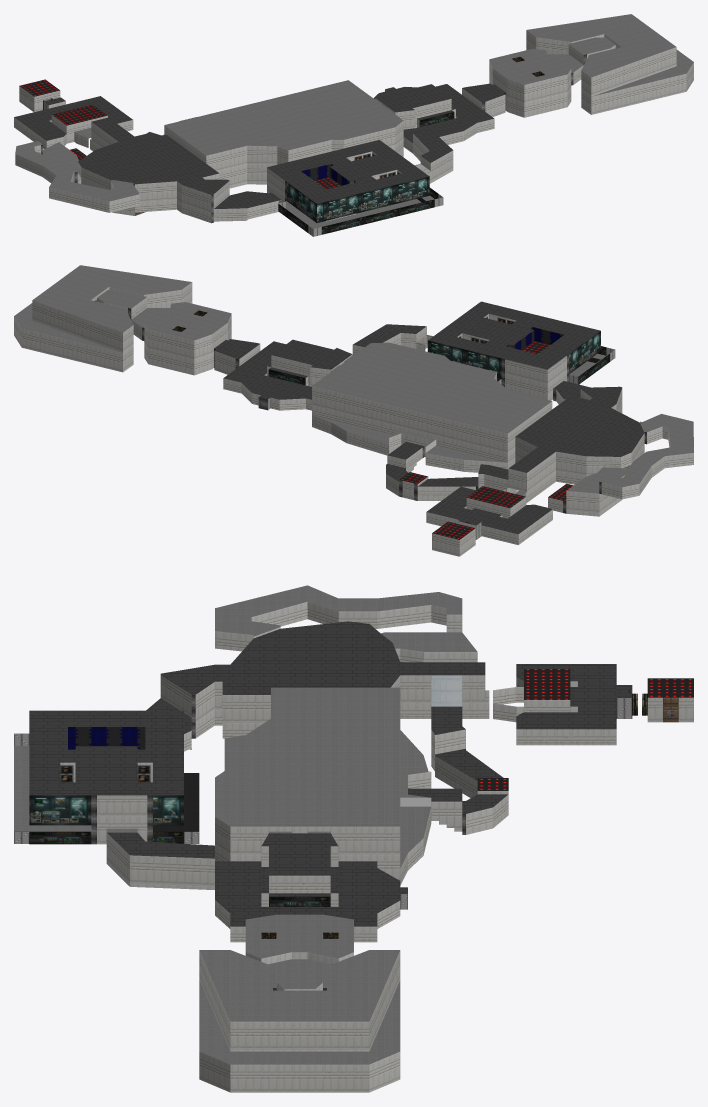
File: Mapa 1 sin puertas v2.fbx
3 views of the same model, one above another, from view 1: azimuth 30°, elevation 25°; view 2: azimuth 150°, elevation 25°; view 3: azimuth 270°, elevation 25° (orthographic). The views are drawn at different scales.
Parts seen in each view (by area): view 1: E1M1; view 2: E1M1; view 3: E1M1.
Boxes of the visible parts, box(x1,y1,x2,y2) form: E1M1: box(14, 14, 693, 236); E1M1: box(14, 265, 693, 556); E1M1: box(14, 585, 693, 1092).
Size of the model in its own units: 457600 by 40000 by 281600.
52 materials, 51 textured.
